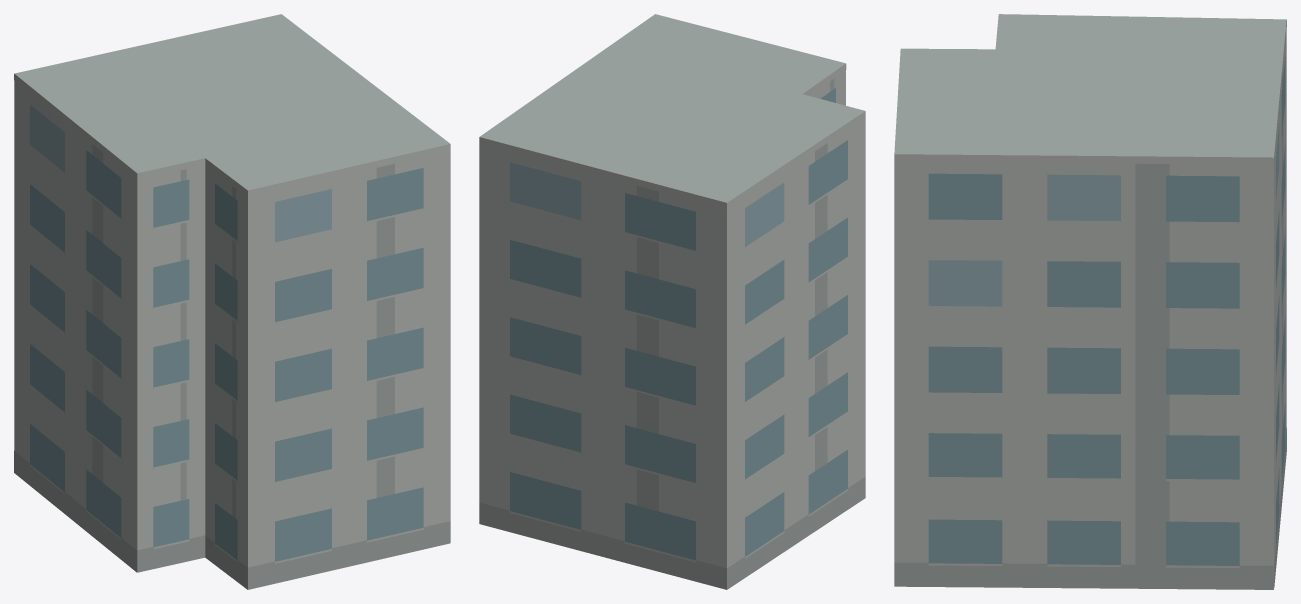
Rendered from survey-upis-32825150.glb.
3 views of the same model, side by side, from view 1: azimuth 30°, elevation 25°; view 2: azimuth 150°, elevation 25°; view 3: azimuth 270°, elevation 25° (orthographic). The views are drawn at different scales.
Parts seen in each view (by area): view 1: survey-upis-32825150.tmp; view 2: survey-upis-32825150.tmp; view 3: survey-upis-32825150.tmp.
Boxes of the visible parts, left/top/right/bottom form: survey-upis-32825150.tmp: left=14, top=14, right=450, bottom=589; survey-upis-32825150.tmp: left=479, top=14, right=865, bottom=589; survey-upis-32825150.tmp: left=894, top=14, right=1286, bottom=589.
Size of the model in its own units: 10.04 by 14.1 by 11.61.
